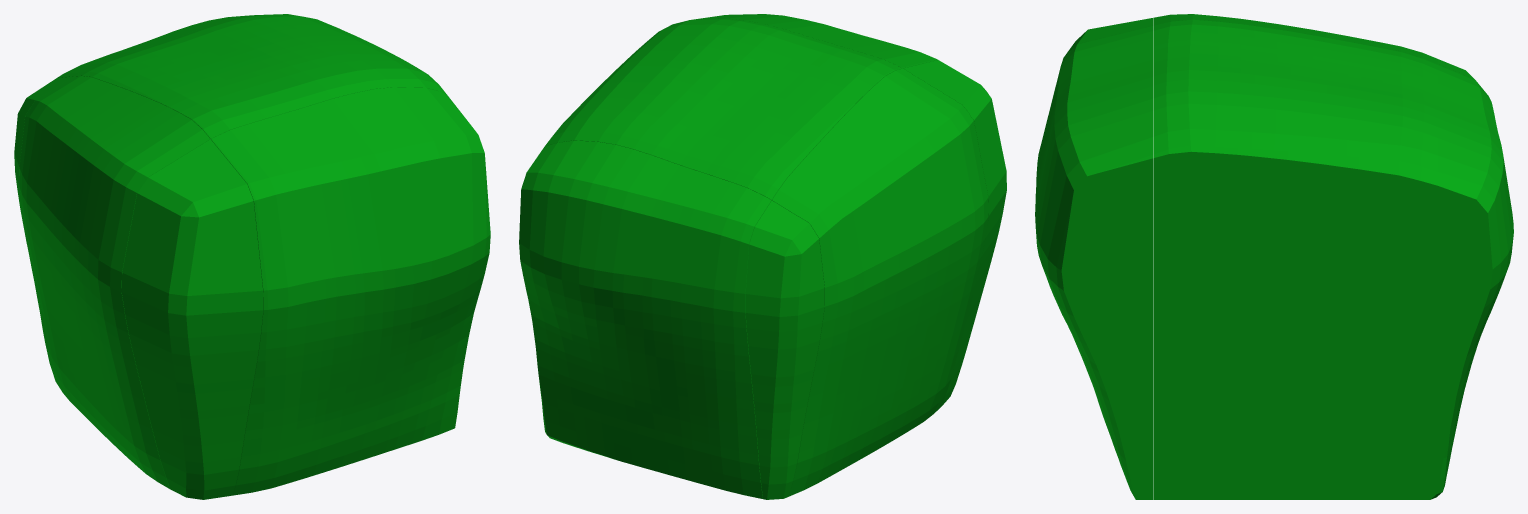
Rendered from 4by10beveledsubdivided.016.fbx.
3 views of the same model, side by side, from view 1: azimuth 30°, elevation 25°; view 2: azimuth 150°, elevation 25°; view 3: azimuth 270°, elevation 25° (orthographic). The views are drawn at different scales.
Parts seen in each view (by area): view 1: 4by10beveledsubdivided.016; view 2: 4by10beveledsubdivided.016; view 3: 4by10beveledsubdivided.016.
Part boxes in pixels (x1,y1,x2,y2): 4by10beveledsubdivided.016: [14, 14, 490, 499]; 4by10beveledsubdivided.016: [519, 14, 1006, 499]; 4by10beveledsubdivided.016: [1035, 14, 1513, 499].
Size of the model in its own units: 280 by 290 by 338.
